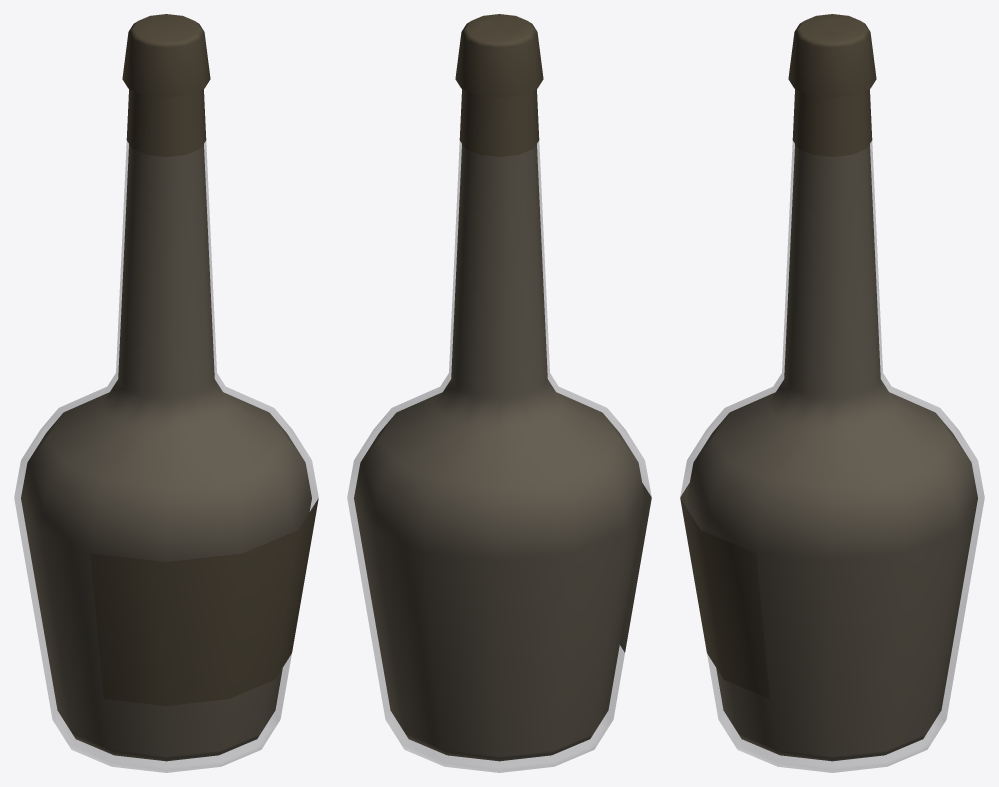
File: Bottle4.fbx
3 renders of one model, left to right at view 1: azimuth 30°, elevation 25°; view 2: azimuth 150°, elevation 25°; view 3: azimuth 270°, elevation 25°, orthographic.
Visible parts, largest first — view 1: Bottle4, Liquid; view 2: Bottle4, Liquid; view 3: Bottle4, Liquid.
Part boxes in pixels (x1,y1,x2,y2): Bottle4: (14,14,318,772); Liquid: (21,144,311,761); Bottle4: (347,14,651,772); Liquid: (354,144,644,761); Bottle4: (680,14,984,772); Liquid: (687,144,977,761).
Bounding box in the file's own units: 0.0168 × 0.0428 × 0.0168.
